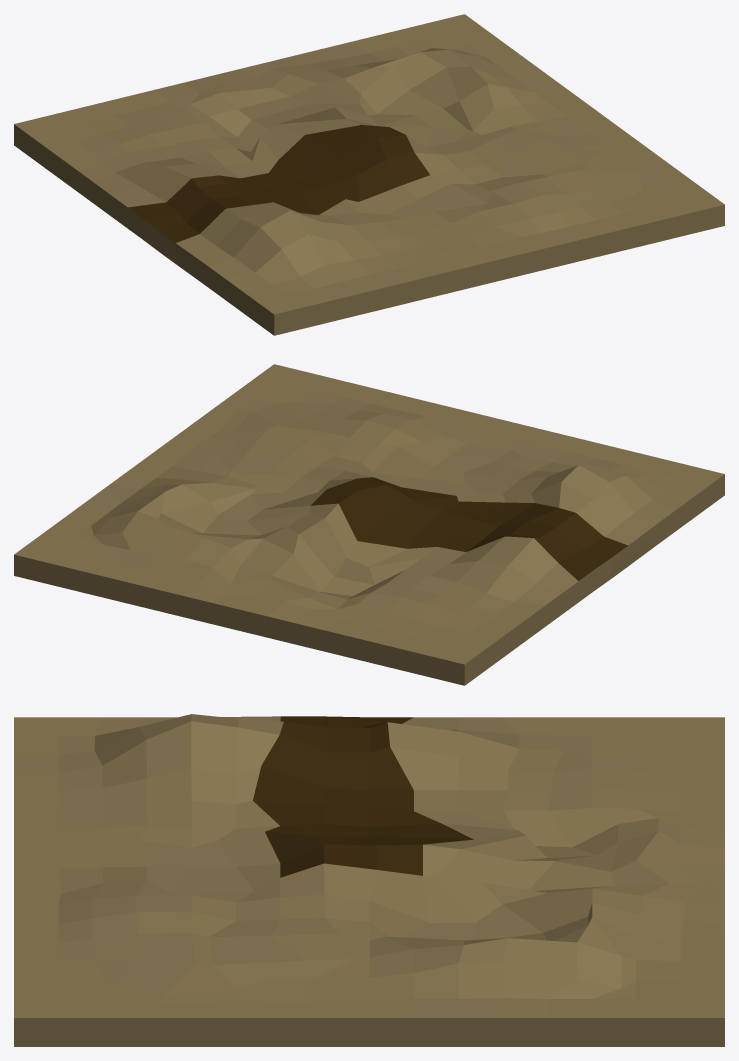
The model's file is Path3.fbx.
3 views of the same model, one above another, from view 1: azimuth 30°, elevation 25°; view 2: azimuth 150°, elevation 25°; view 3: azimuth 270°, elevation 25° (orthographic). The views are drawn at different scales.
Visible parts, largest first — view 1: Cube.008; view 2: Cube.008; view 3: Cube.008.
Boxes of the visible parts, left/top/right/bottom form: Cube.008: left=14, top=14, right=724, bottom=335; Cube.008: left=14, top=364, right=724, bottom=685; Cube.008: left=14, top=714, right=724, bottom=1046.
Bounding box in the file's own units: 2062 × 253 × 2057.
